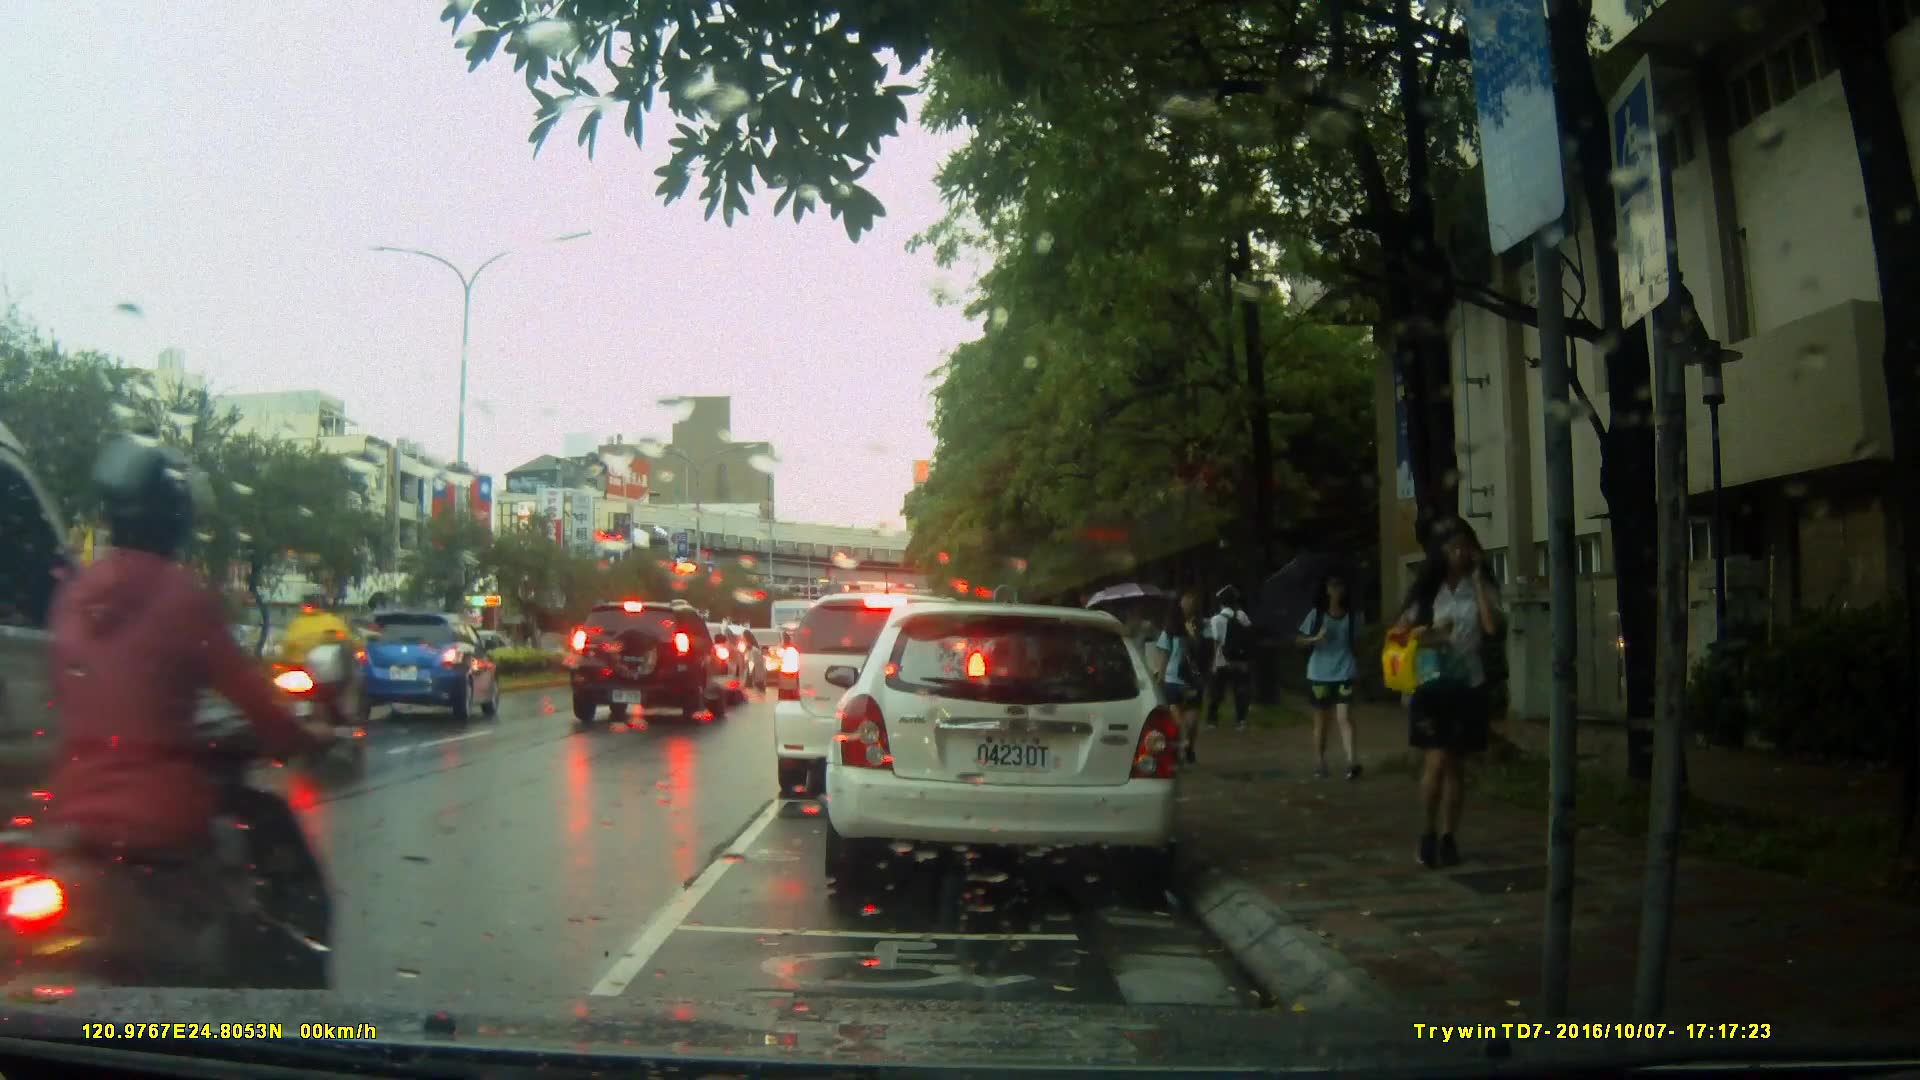pedestrian: (1404, 511, 1516, 871), (1297, 566, 1367, 787), (1165, 569, 1236, 762)
rider: (1, 432, 323, 1073), (275, 581, 363, 757)
vehicle: (815, 593, 1204, 909), (771, 590, 994, 802), (567, 600, 732, 726), (347, 610, 505, 722)
